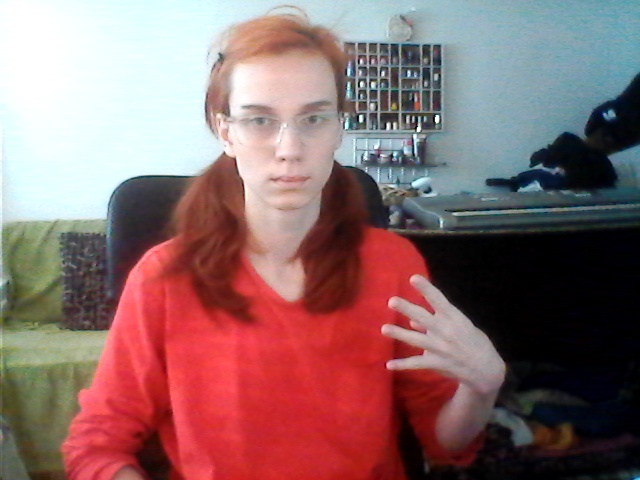styri: (369, 270, 517, 402)
